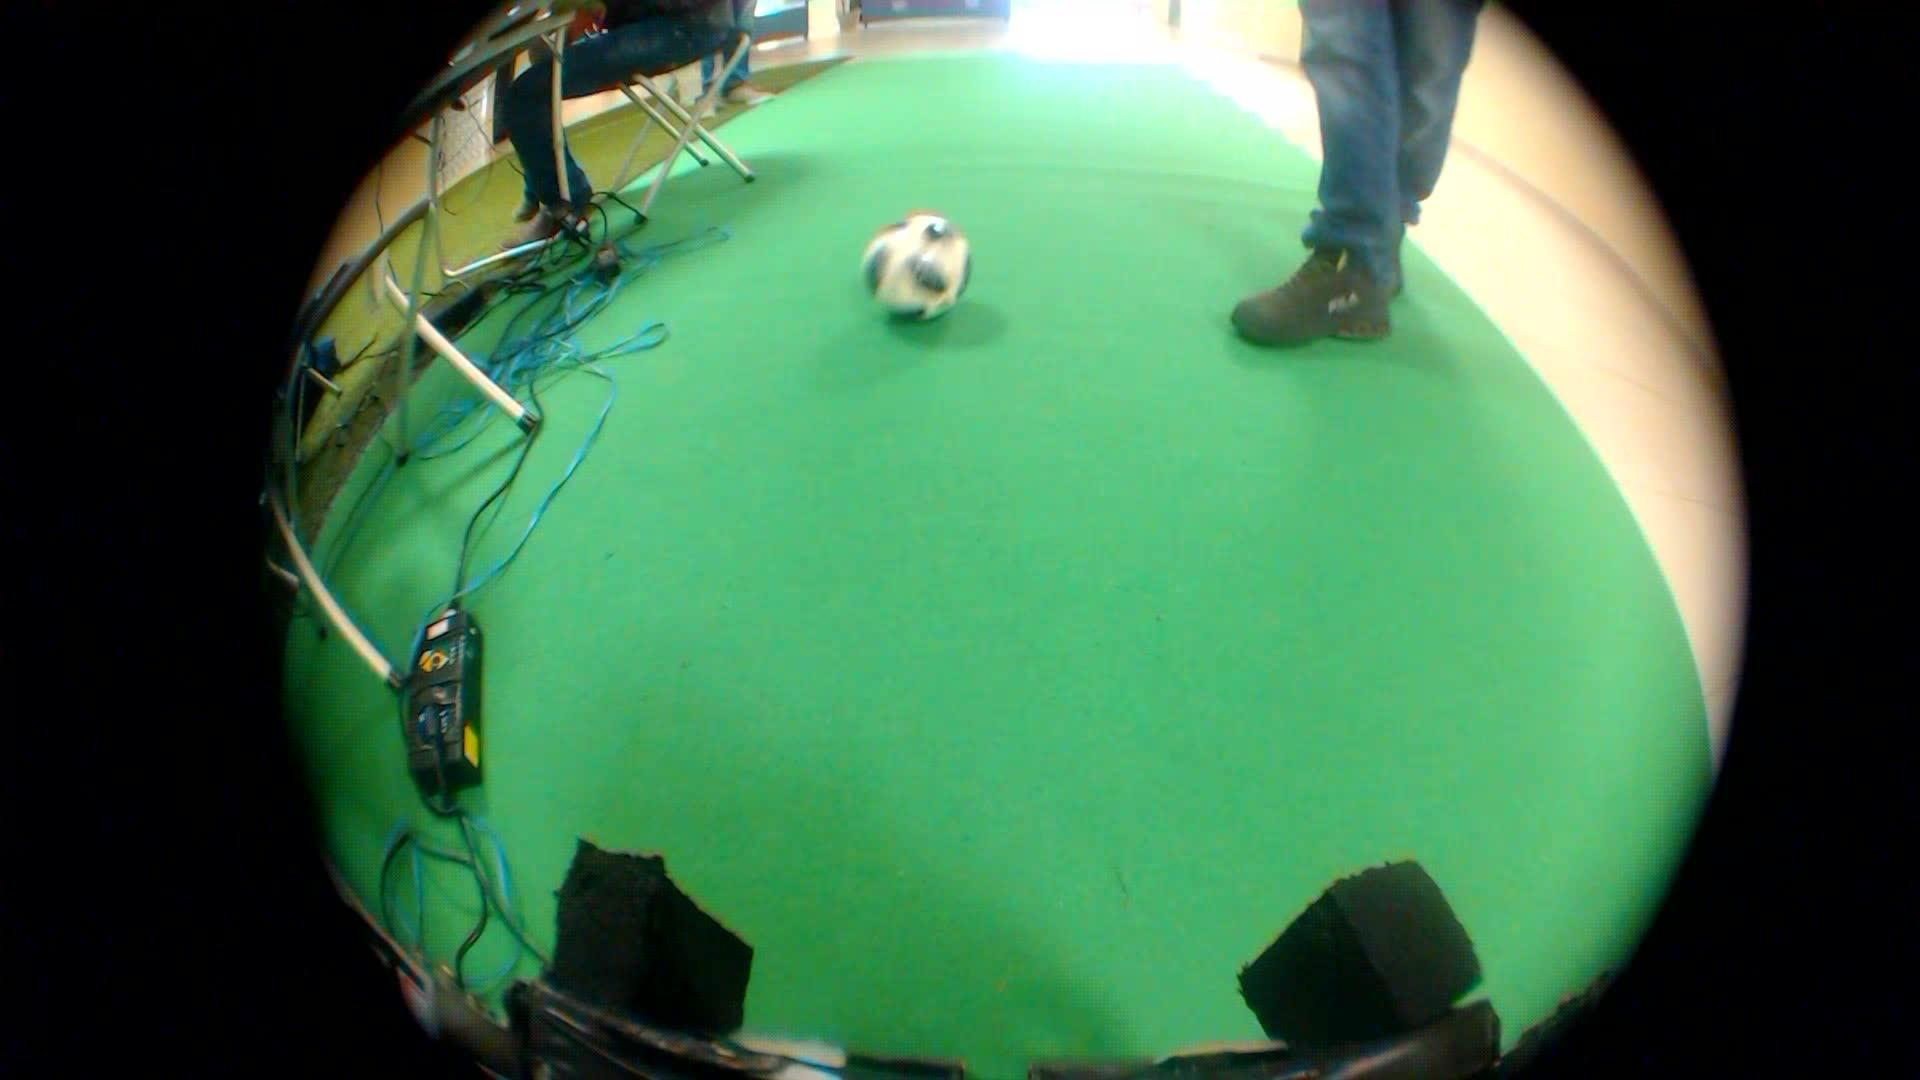ball: (851, 202, 980, 328)
